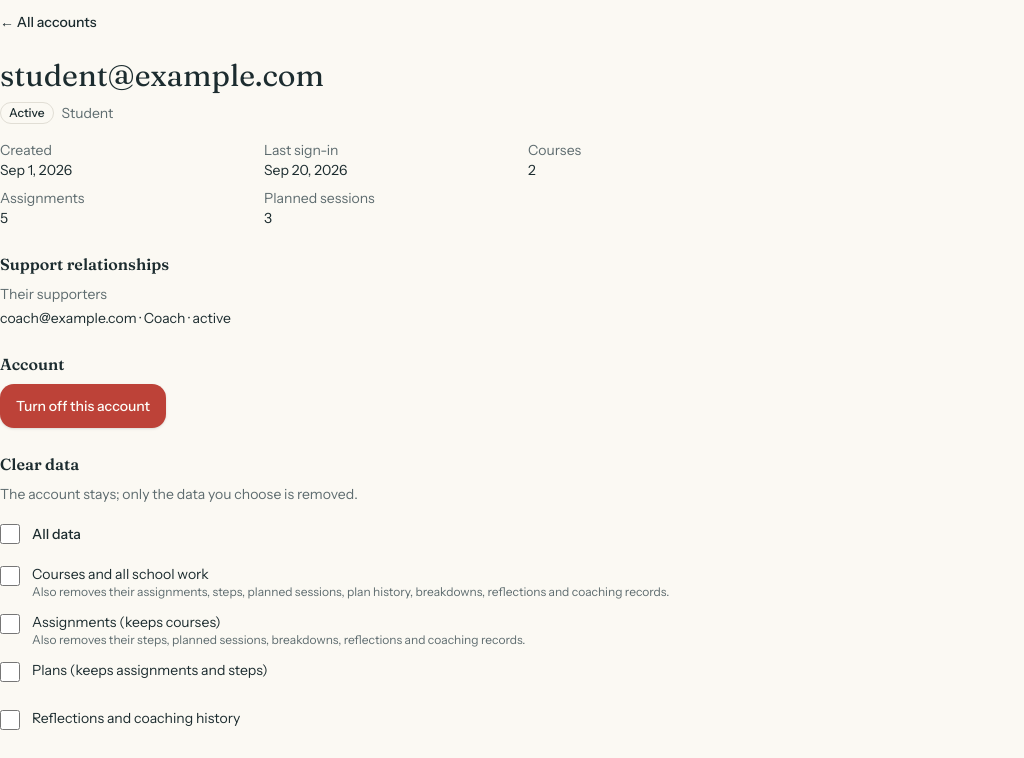
Test: AccountPage (admin-account-management-v0.1.md, requirement 2) › turning off and on (A3) › a refusal from the database is shown
Click the button "Turn off this account" at [83, 406], box [0,384,166,428]
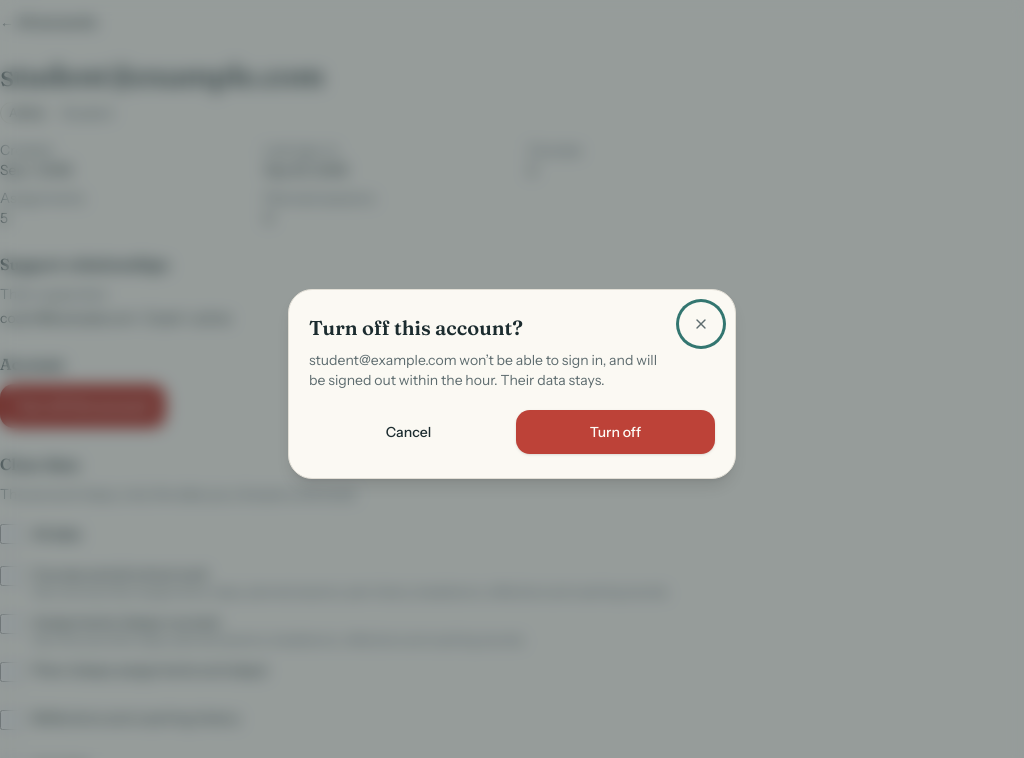
Click the button "Turn off" at [616, 432], box [516,410,715,454]
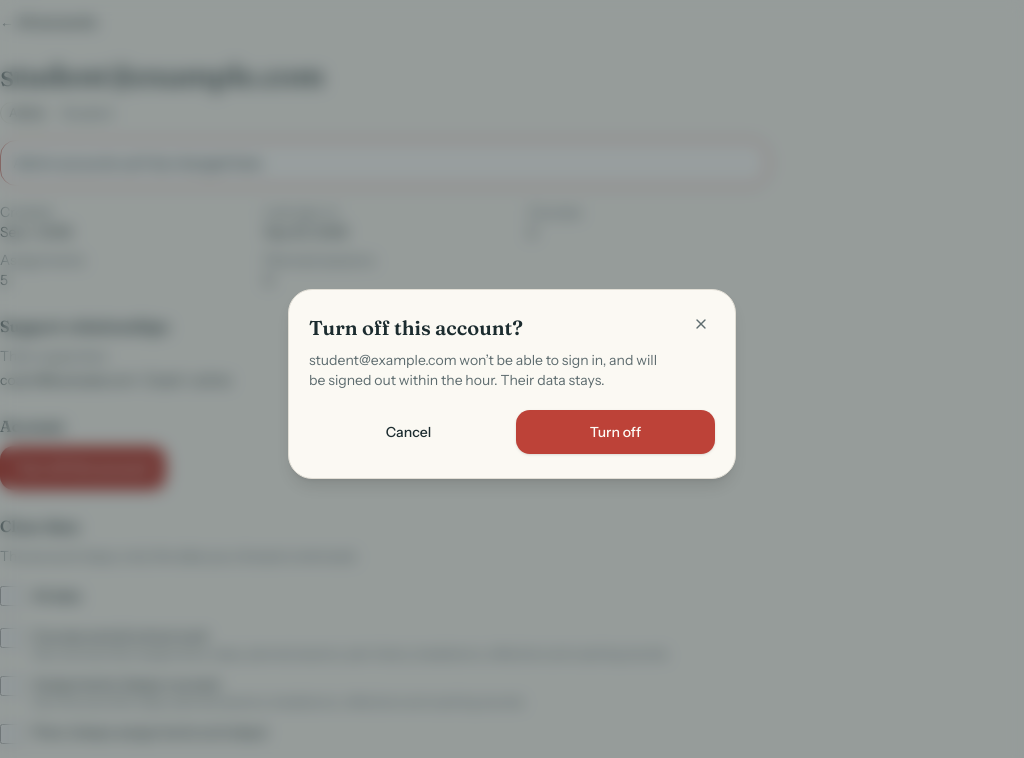
Expected: the text "Admin accounts can't be changed here." is shown, [0,140,768,186]
